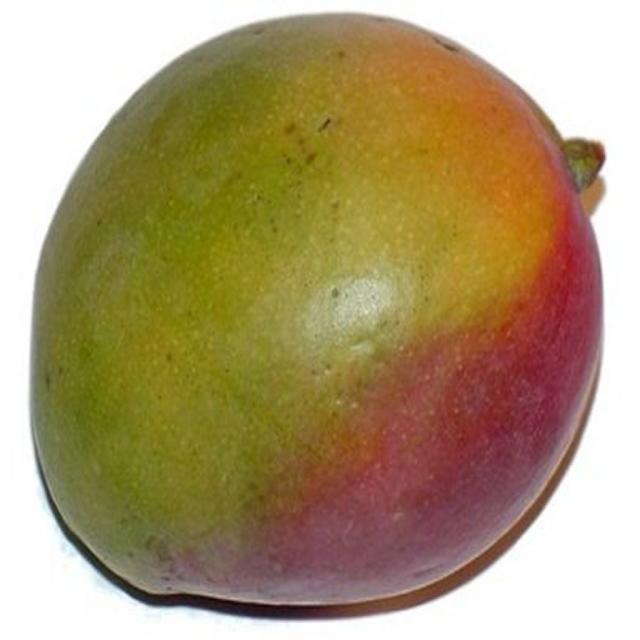mango: (14, 19, 624, 611)
